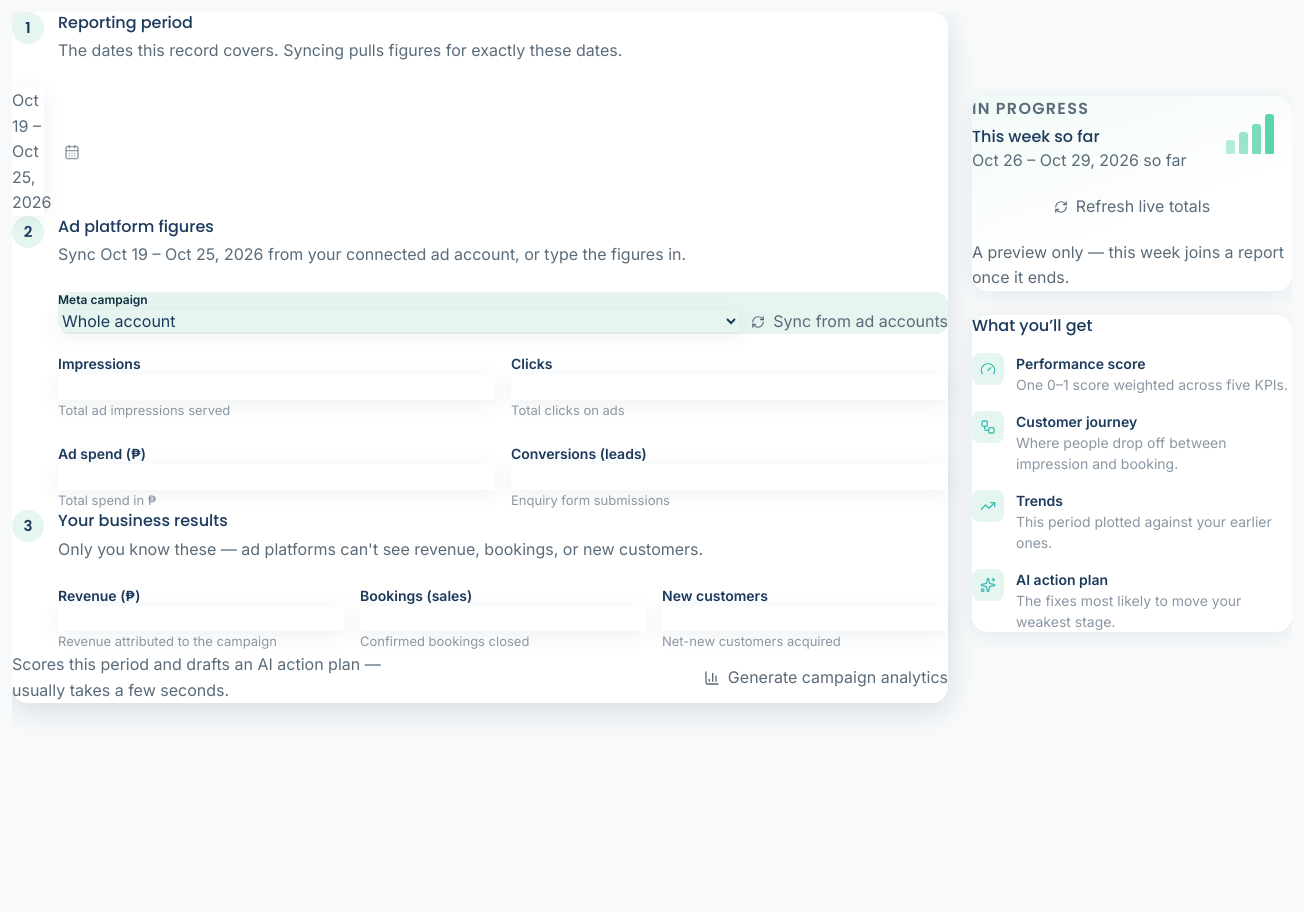
Scenario: IngestionForm ad sync › capitalizes the provider name in the sync confirmation note
Click the button "Sync from ad accounts".
click(850, 322)  # box [751,309,948,334]
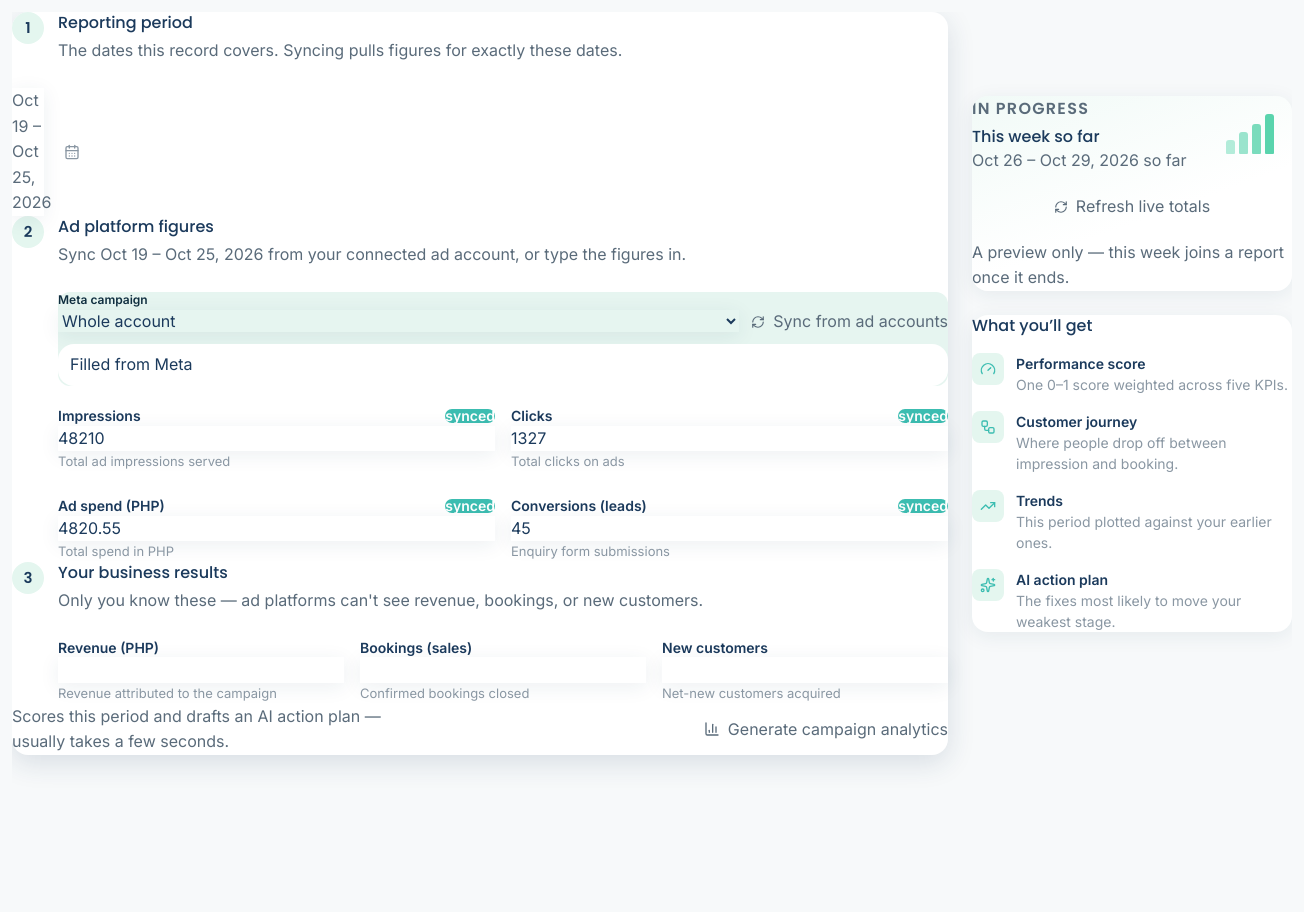
Expected: the text "Filled from Meta" is shown, [58,344,948,386]
